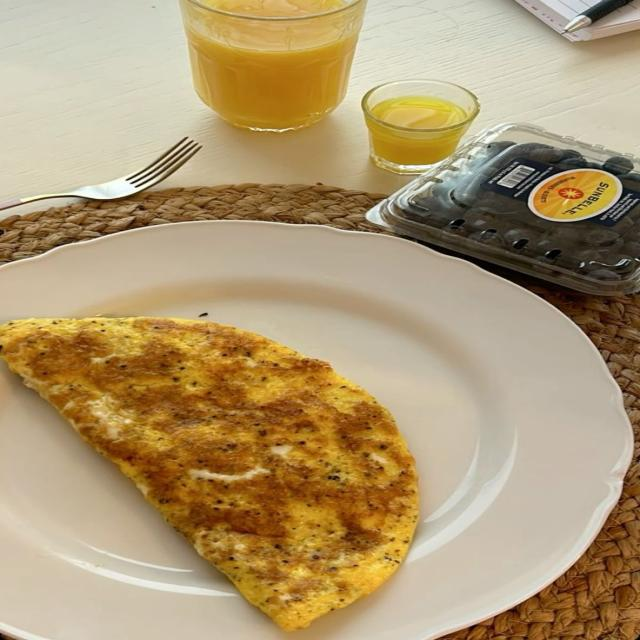omelette: (0, 318, 417, 630)
